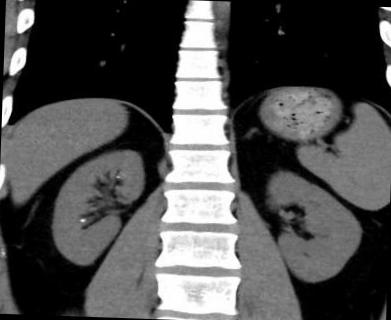Tas_Var: (114, 174, 121, 180), (80, 218, 84, 222), (82, 217, 86, 220)
